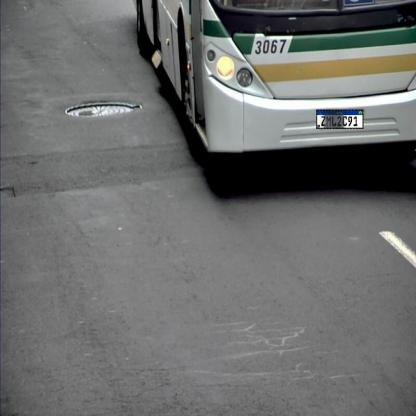PlacaM: (316, 110, 364, 129)
